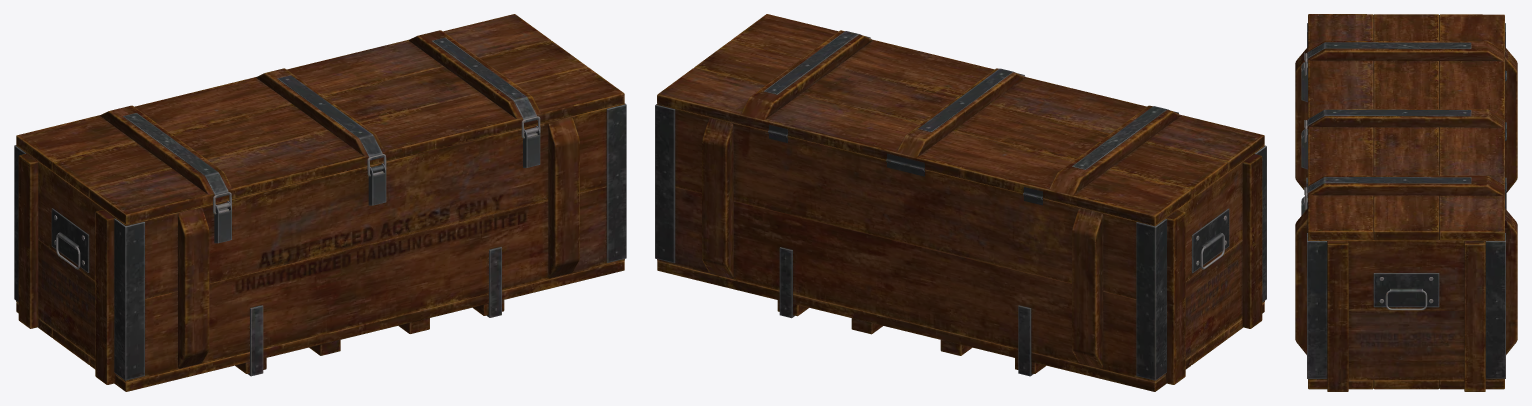
The model's file is wooden_military_crate.gltf.
The picture shows the model from 3 angles, left to right: view 1: azimuth 30°, elevation 25°; view 2: azimuth 150°, elevation 25°; view 3: azimuth 270°, elevation 25°; orthographic projection. The views are drawn at different scales.
Parts seen in each view (by area): view 1: wooden_military_crate, wooden_military_crate_lid; view 2: wooden_military_crate, wooden_military_crate_lid; view 3: wooden_military_crate_lid, wooden_military_crate.
Boxes of the visible parts, <box> form: wooden_military_crate: <box>14,103,626,391</box>; wooden_military_crate_lid: <box>16,14,624,224</box>; wooden_military_crate: <box>655,104,1266,391</box>; wooden_military_crate_lid: <box>657,14,1264,225</box>; wooden_military_crate_lid: <box>1304,14,1506,240</box>; wooden_military_crate: <box>1295,23,1517,391</box>.
Bounding box in the file's own units: 1.24 × 0.4648 × 0.5198.
Materials: 1 (1 with a texture image).
